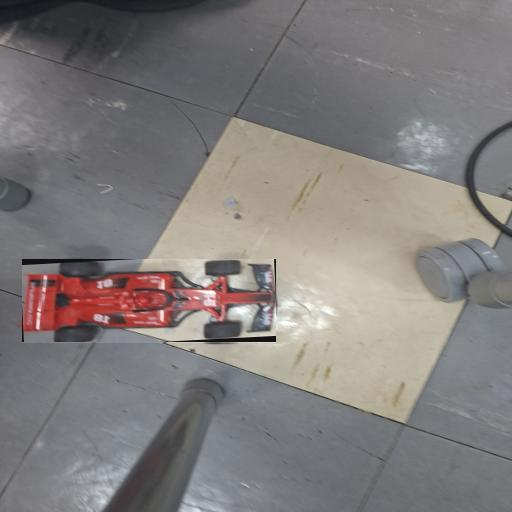carro: (22, 260, 275, 343)
